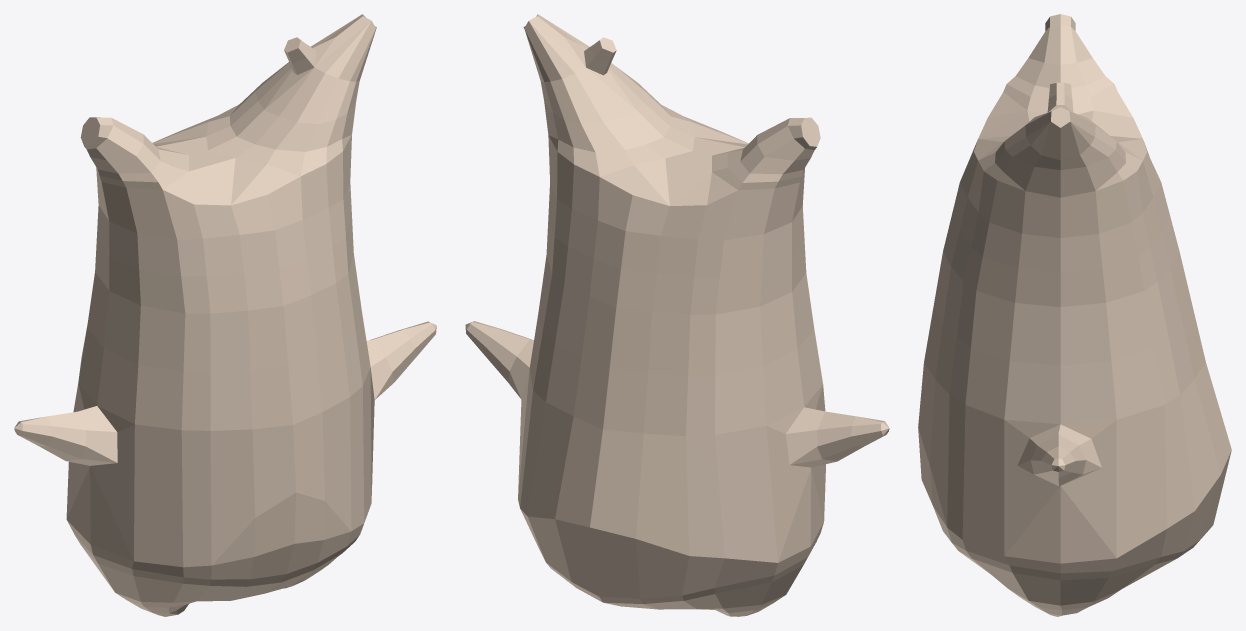
The model's file is frame_0033.obj.
3 renders of one model, left to right at view 1: azimuth 30°, elevation 25°; view 2: azimuth 150°, elevation 25°; view 3: azimuth 270°, elevation 25°, orthographic.
Parts seen in each view (by area): view 1: korok; view 2: korok; view 3: korok.
Boxes of the visible parts, left/top/right/bottom form: korok: left=14, top=14, right=436, bottom=616; korok: left=465, top=14, right=889, bottom=616; korok: left=918, top=14, right=1231, bottom=616.
Size of the model in its own units: 1.65 by 2.05 by 1.07.
